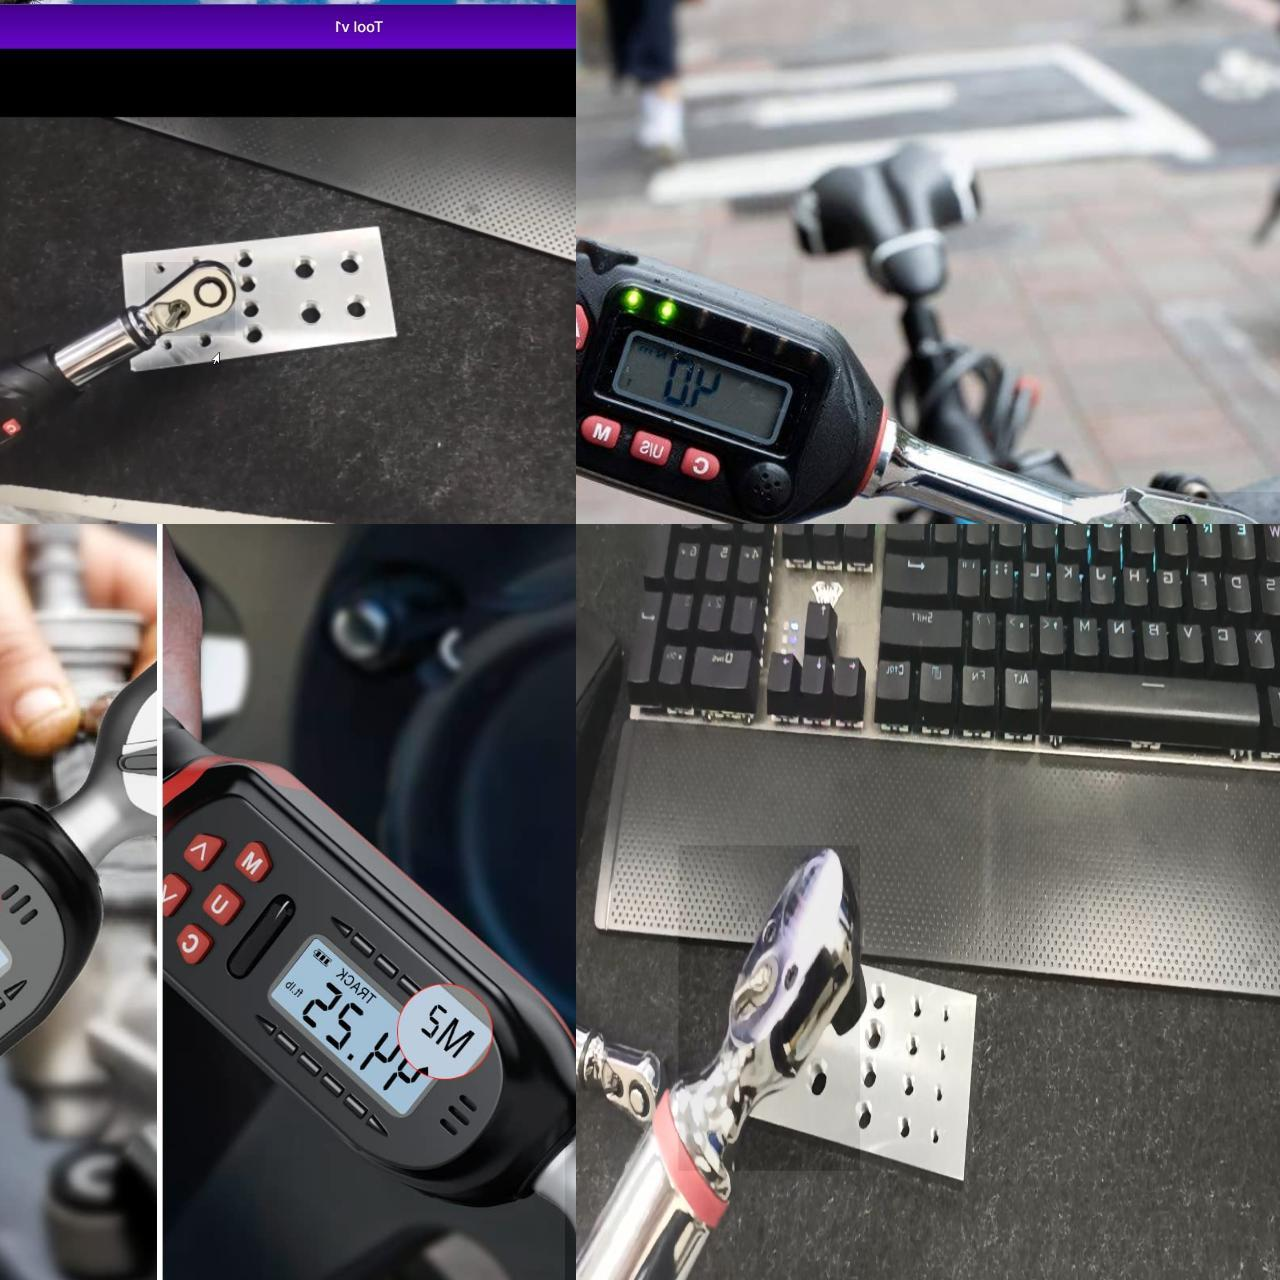Tool: (678, 845, 860, 1171), (585, 1032, 661, 1137), (1062, 492, 1280, 524), (145, 263, 234, 336)
